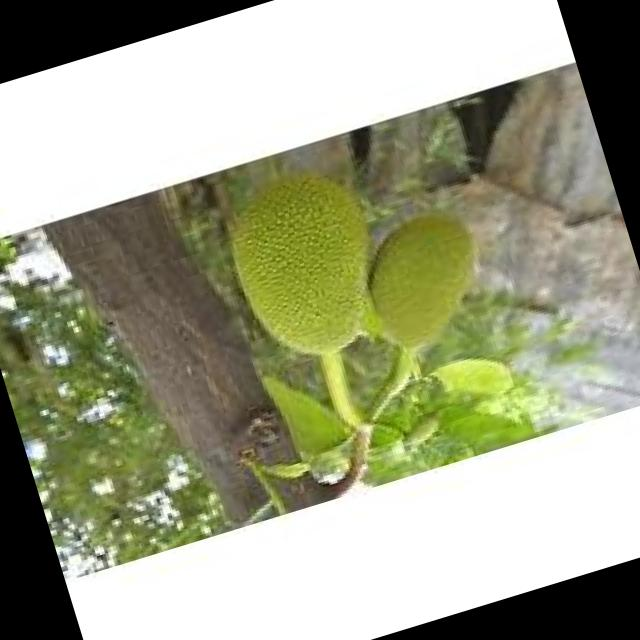Fruit: (208, 151, 410, 386)
